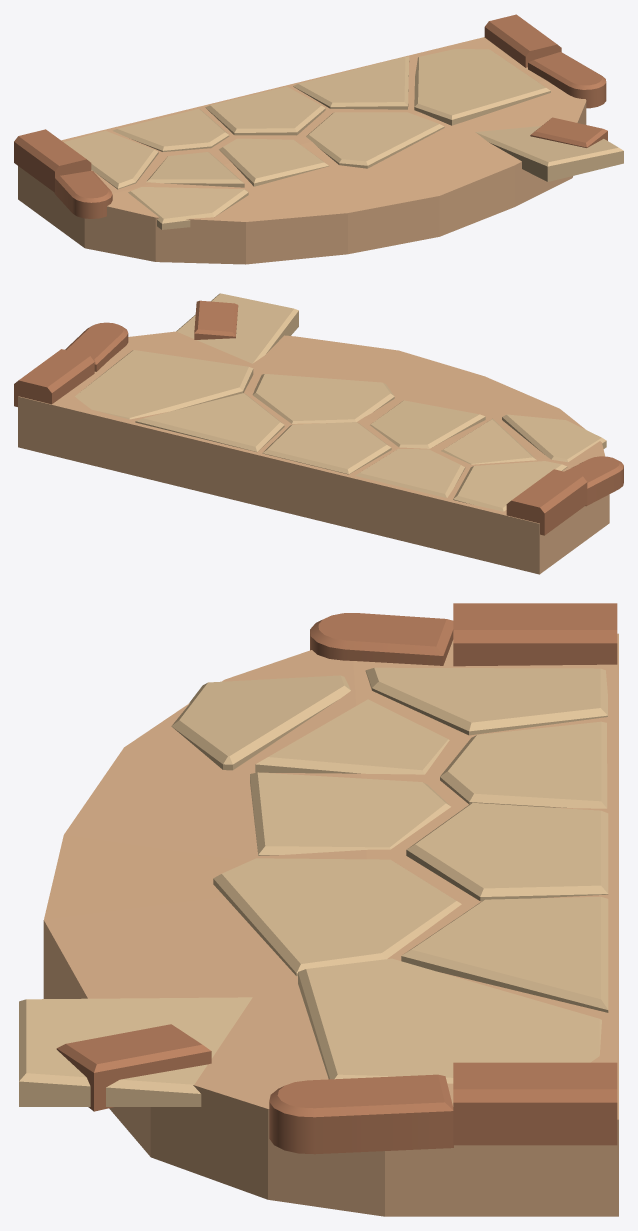
File: terrace_path_end.fbx
3 renders of one model, top to bottom at view 1: azimuth 30°, elevation 25°; view 2: azimuth 150°, elevation 25°; view 3: azimuth 270°, elevation 25°, orthographic. The views are drawn at different scales.
Visible parts, largest first — view 1: Terrace_Path_End; view 2: Terrace_Path_End; view 3: Terrace_Path_End.
Boxes of the visible parts, left/top/right/bottom form: Terrace_Path_End: left=14, top=14, right=623, bottom=264; Terrace_Path_End: left=14, top=293, right=623, bottom=574; Terrace_Path_End: left=19, top=603, right=618, bottom=1216.
Bounding box in the file's own units: 359 × 42 × 179.
